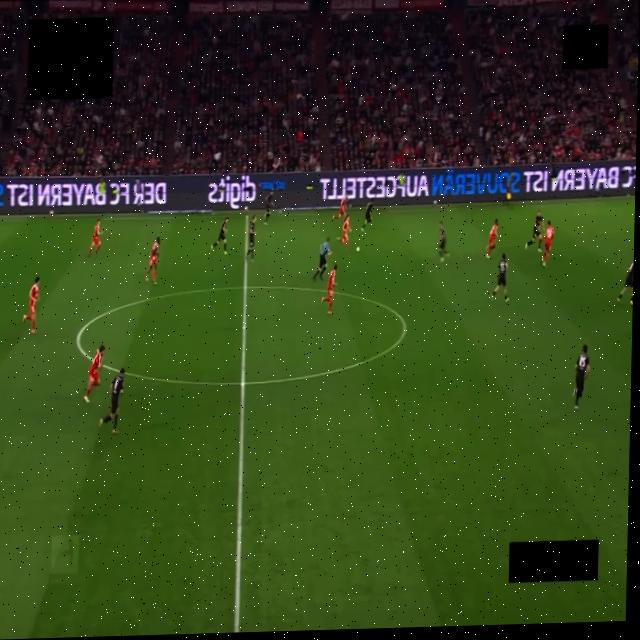ball: (356, 246, 359, 252)
player: (98, 368, 124, 434), (572, 344, 591, 410), (83, 345, 104, 403), (22, 278, 39, 334), (490, 254, 508, 302), (616, 261, 633, 306), (321, 265, 336, 314), (525, 211, 542, 251), (145, 236, 159, 284), (210, 217, 227, 254), (87, 220, 101, 258), (541, 222, 553, 266), (336, 216, 350, 250), (245, 216, 255, 261), (486, 219, 497, 258), (438, 222, 448, 262), (361, 202, 372, 231), (264, 191, 273, 224), (332, 198, 345, 220)
referee: (313, 238, 330, 280)
